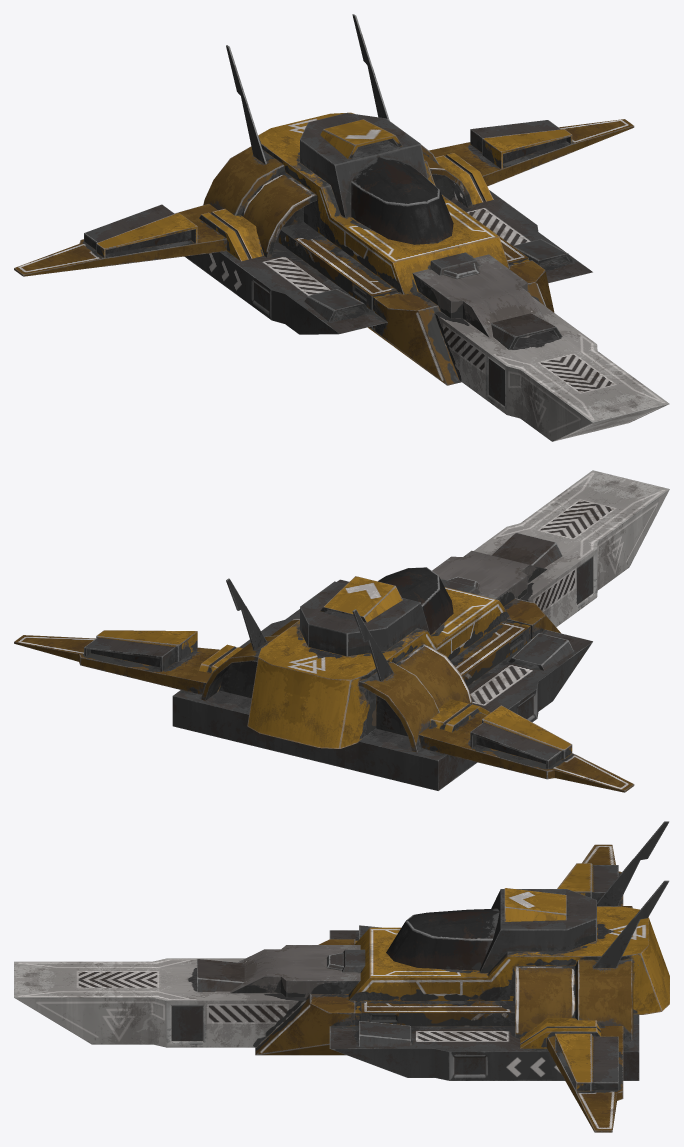
File: qs_challenger.glb
3 views of the same model, one above another, from view 1: azimuth 30°, elevation 25°; view 2: azimuth 150°, elevation 25°; view 3: azimuth 270°, elevation 25° (orthographic). The views are drawn at different scales.
Parts seen in each view (by area): view 1: Challenger; view 2: Challenger; view 3: Challenger.
Part boxes in pixels (left/top/right/bottom): Challenger: left=14, top=14, right=669, bottom=441; Challenger: left=14, top=470, right=669, bottom=792; Challenger: left=14, top=821, right=669, bottom=1132.
Bounding box in the file's own units: 10.5 × 3.02 × 10.18.
1 material, 1 textured.
